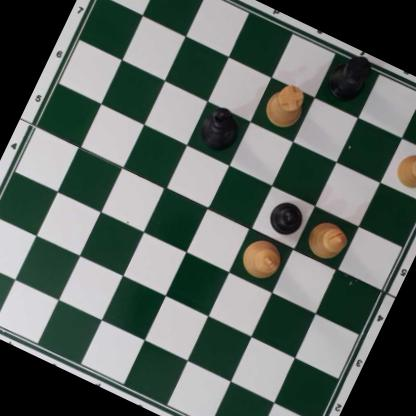black-king: (195, 102, 247, 157)
black-pawn: (264, 195, 309, 241)
black-rook: (320, 44, 379, 107)
white-bishop: (303, 214, 353, 265)
white-king: (236, 234, 288, 285)
white-pawn: (391, 146, 416, 195)
white-rook: (260, 79, 310, 133)
